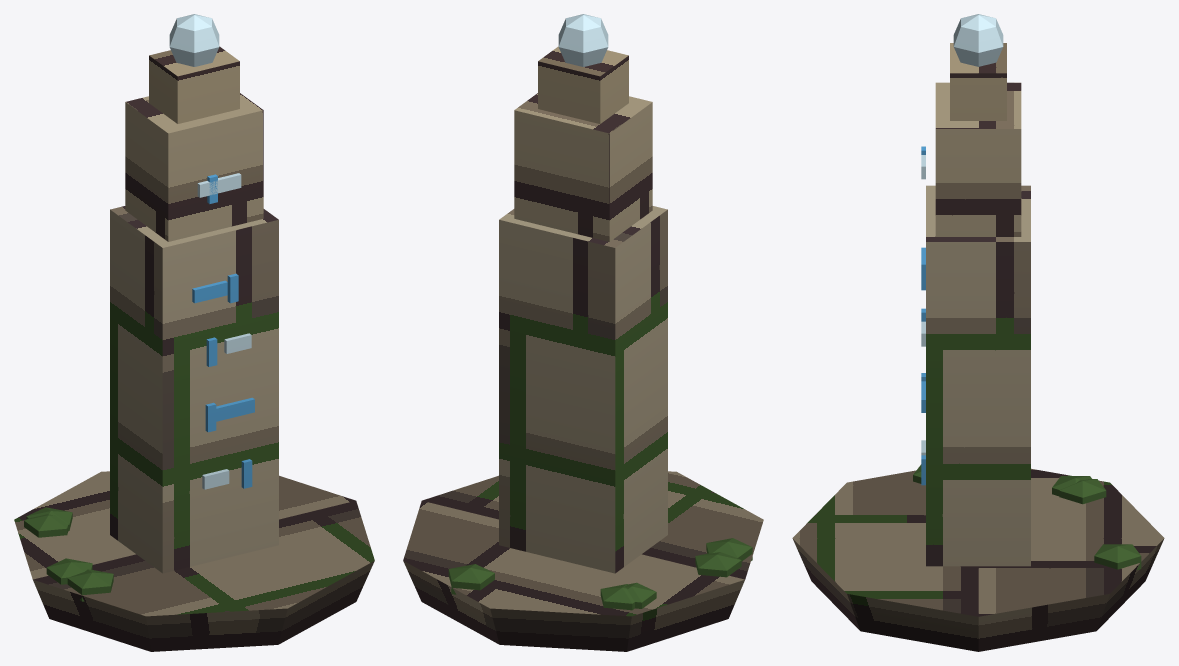
File: waystone.glb
3 renders of one model, left to right at view 1: azimuth 30°, elevation 25°; view 2: azimuth 150°, elevation 25°; view 3: azimuth 270°, elevation 25°, orthographic.
Visible parts, largest first — view 1: waystone; view 2: waystone; view 3: waystone.
Boxes of the visible parts, x1,y1,x2,y2 form: waystone: (14,14,374,651); waystone: (403,14,763,651); waystone: (792,14,1164,651).
Size of the model in its own units: 1.56 by 2.62 by 1.56.
Materials: 3 (1 with a texture image).
